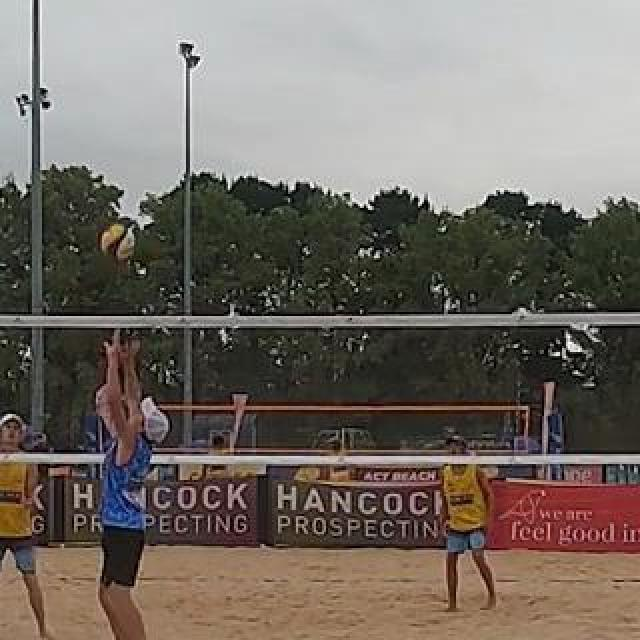volleyball: (100, 224, 134, 260)
